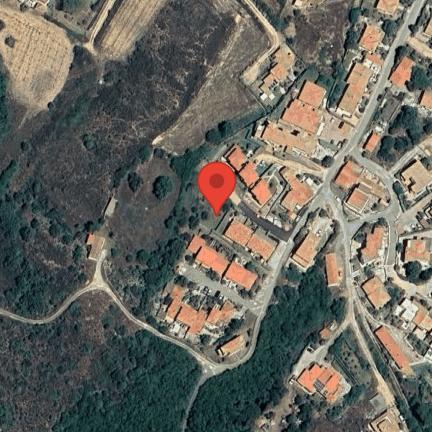area_open: (180, 259, 259, 314), (306, 186, 361, 251), (316, 119, 369, 170), (377, 198, 424, 234)
built: (257, 119, 322, 158), (208, 208, 257, 247), (374, 326, 412, 371), (400, 154, 432, 199), (224, 259, 260, 294), (292, 231, 324, 270), (373, 89, 401, 132), (245, 230, 279, 263), (199, 244, 233, 277), (388, 54, 420, 89), (317, 368, 348, 404), (283, 109, 324, 136), (288, 99, 327, 124), (335, 160, 365, 192), (338, 84, 366, 118), (369, 407, 407, 432), (249, 176, 277, 208), (223, 143, 251, 174), (298, 362, 325, 394), (290, 176, 317, 207), (405, 237, 432, 268), (298, 81, 327, 109), (361, 127, 385, 160), (345, 62, 372, 91), (360, 25, 385, 54), (217, 335, 247, 359), (345, 188, 372, 214), (239, 161, 263, 190), (217, 299, 240, 329), (416, 5, 432, 46), (186, 312, 211, 338), (274, 45, 299, 70), (362, 51, 386, 76), (356, 172, 380, 197), (401, 298, 420, 329), (176, 306, 201, 329), (369, 286, 392, 311), (186, 234, 209, 257), (412, 298, 430, 327), (362, 275, 385, 297), (326, 253, 341, 286), (375, 0, 401, 19), (169, 282, 192, 303), (280, 188, 300, 212), (361, 246, 384, 266), (260, 73, 280, 95), (165, 299, 185, 321), (89, 236, 106, 261), (205, 306, 225, 326), (320, 320, 339, 341), (271, 63, 290, 83), (105, 197, 122, 219), (280, 166, 298, 185), (419, 87, 432, 112), (370, 184, 389, 200), (367, 234, 383, 247), (421, 315, 432, 333), (372, 225, 385, 239), (87, 233, 96, 246)
vegetation_high: (0, 287, 202, 432), (187, 259, 349, 432), (1, 94, 98, 320), (374, 101, 432, 175), (405, 62, 432, 103)
vegetation_low: (57, 0, 278, 240), (253, 0, 378, 97), (105, 201, 188, 324), (309, 322, 392, 431), (0, 1, 73, 119), (250, 136, 332, 193), (97, 0, 172, 62), (387, 367, 432, 432), (264, 63, 319, 116), (375, 20, 406, 60)
